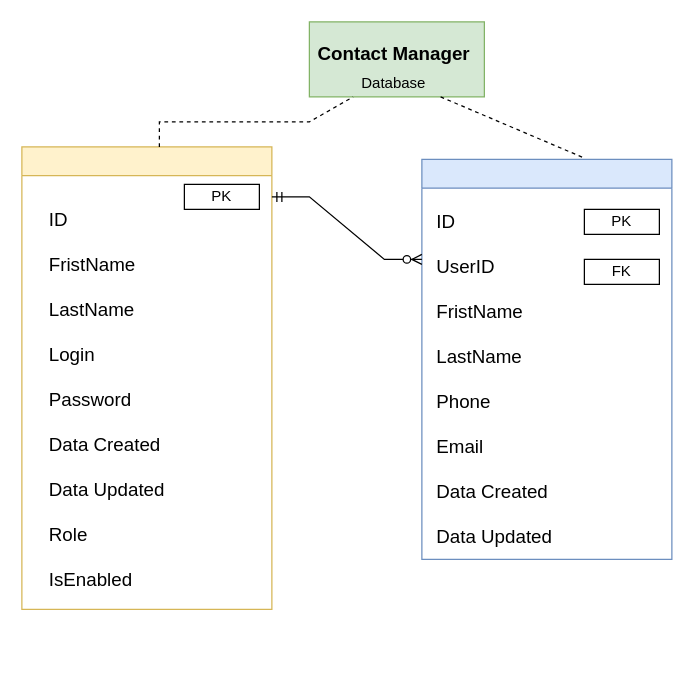
The diagram is 694 pixels wide and 695 high, and some of its shapes have lost their labels. Each missing label, with the box of its shape:
Contacts: (421, 158, 672, 559)
Users: (21, 146, 272, 609)
